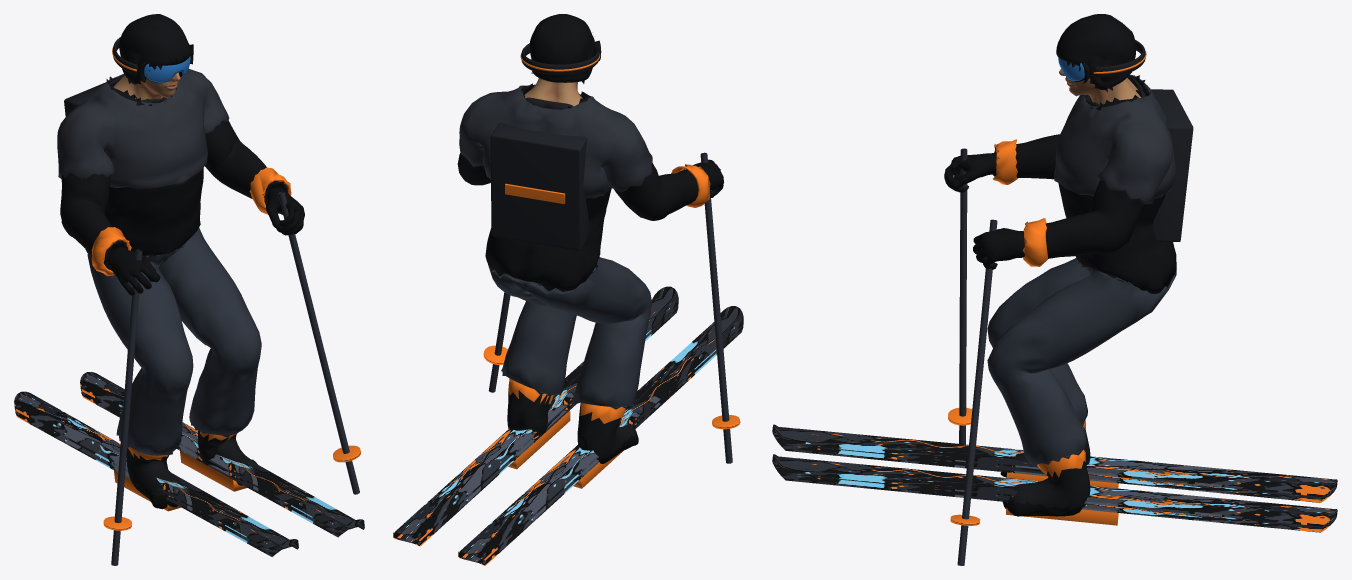
File: rider-ski.glb
3 views of the same model, side by side, from view 1: azimuth 30°, elevation 25°; view 2: azimuth 150°, elevation 25°; view 3: azimuth 270°, elevation 25° (orthographic). The views are drawn at different scales.
Visible parts, largest first — view 1: lower-pants, upper-panel, upper-jacket, equipment-ski-1, equipment-ski-0, head-helmet, feet-boots, hands-gloves, equipment-pole-0, equipment-pole-1, upper-cuffs, head-face (+2 smaller); view 2: lower-pants, extras-backpack, upper-panel, upper-jacket, equipment-ski-1, equipment-ski-0, feet-boots, head-helmet, equipment-pole-1, head-face, head-strap, extras-stripe (+4 smaller); view 3: lower-pants, equipment-ski-1, equipment-ski-0, upper-jacket, upper-panel, feet-boots, head-helmet, extras-backpack, hands-gloves, equipment-pole-0, equipment-pole-1, upper-cuffs (+2 smaller).
Boxes of the visible parts, x1,y1,x2,y2 form: lower-pants: (87,227,261,455); upper-panel: (57,69,229,188); upper-jacket: (60,74,287,269); equipment-ski-1: (14,391,298,556); equipment-ski-0: (80,372,364,537); head-helmet: (119,14,193,84); feet-boots: (126,430,257,509); hands-gloves: (106,187,304,295); equipment-pole-0: (278,191,359,494); equipment-pole-1: (111,249,142,565); upper-cuffs: (91,167,291,275); head-face: (113,72,180,100); lower-pants: (488,257,651,409); extras-backpack: (490,122,589,250); upper-panel: (459,85,652,198); upper-jacket: (457,83,698,291); equipment-ski-1: (458,306,743,565); equipment-ski-0: (393,286,678,546); feet-boots: (507,378,638,463); head-helmet: (530,14,594,83); equipment-pole-1: (700,152,732,463); head-face: (524,78,582,106); head-strap: (521,43,599,74); extras-stripe: (505,183,565,204); lower-pants: (987,258,1176,464); equipment-ski-1: (772,424,1337,502); equipment-ski-0: (772,454,1337,532); upper-jacket: (992,75,1176,293); upper-panel: (1054,74,1175,204); feet-boots: (1000,420,1090,516); head-helmet: (1056,14,1136,91); extras-backpack: (1138,89,1193,241); hands-gloves: (944,152,1024,269); equipment-pole-0: (957,219,997,565); equipment-pole-1: (959,148,967,444); upper-cuffs: (993,139,1048,266).
Size of the model in its own units: 0.9271 by 1.65 by 1.71.
23 materials, 3 textured.
